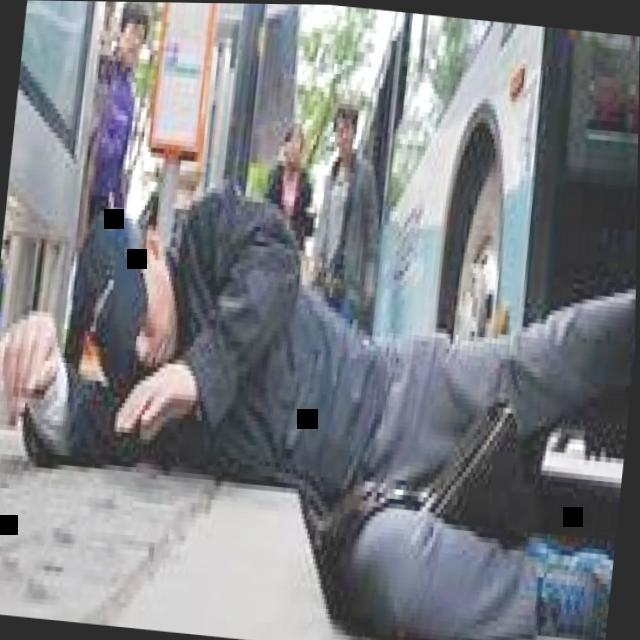Fall-Detected: (0, 122, 639, 640)
